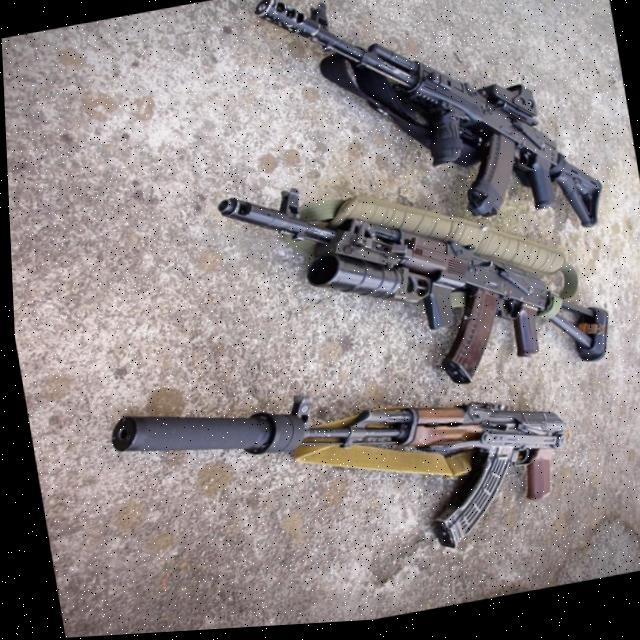firearm: (96, 340, 583, 612), (212, 134, 613, 429), (249, 0, 610, 286)
